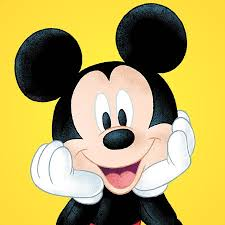mickey: (14, 3, 196, 225)
